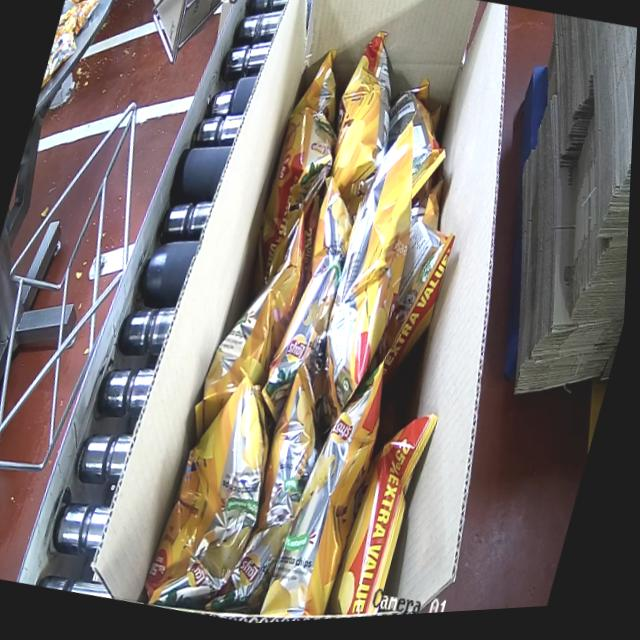FRENCH_CHEESE: (125, 0, 566, 631)
